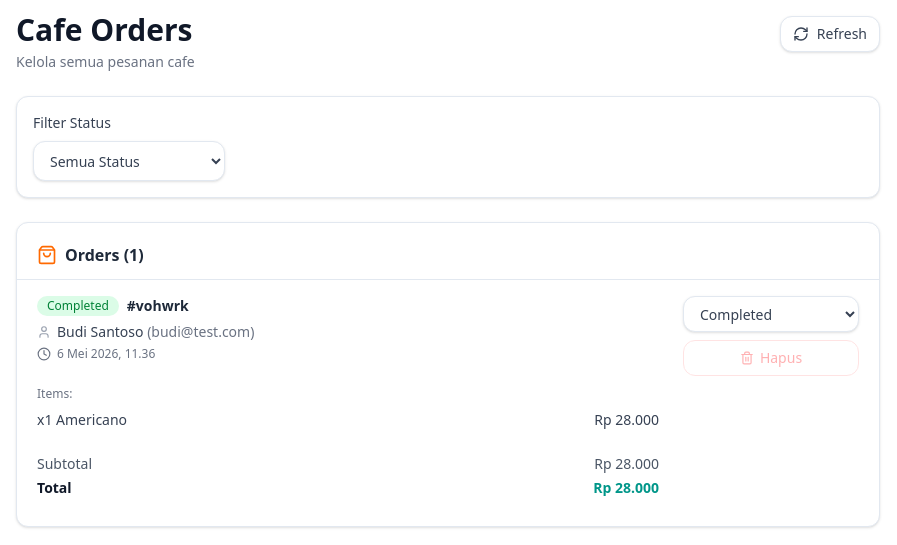
OrdersClient (AC-101) › shows empty state when no orders match filter
Select "New" in the dropdown labelled "Filter Status": (129, 161) [33,141,225,181]
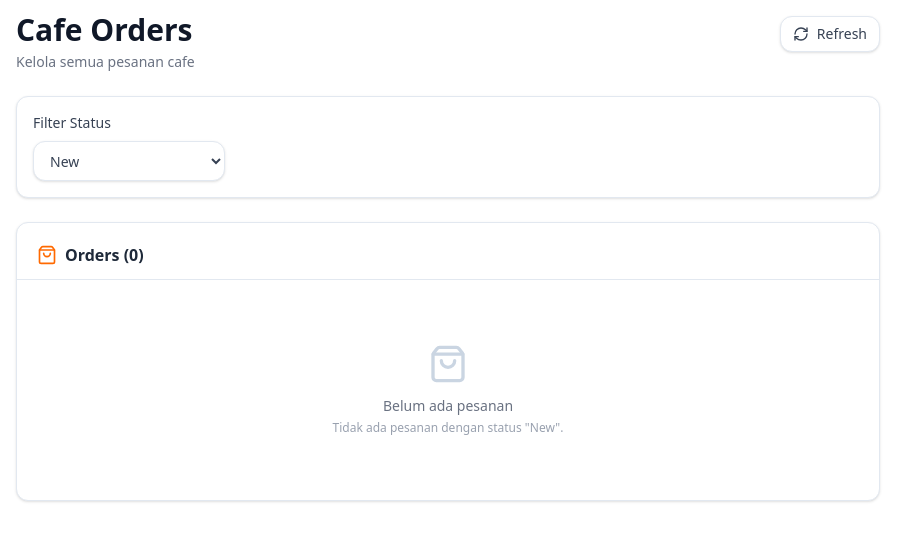
Expected: the text "Belum ada pesanan" is shown, [383,396,513,415]
